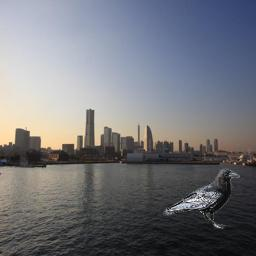Crow: (163, 168, 240, 229)
